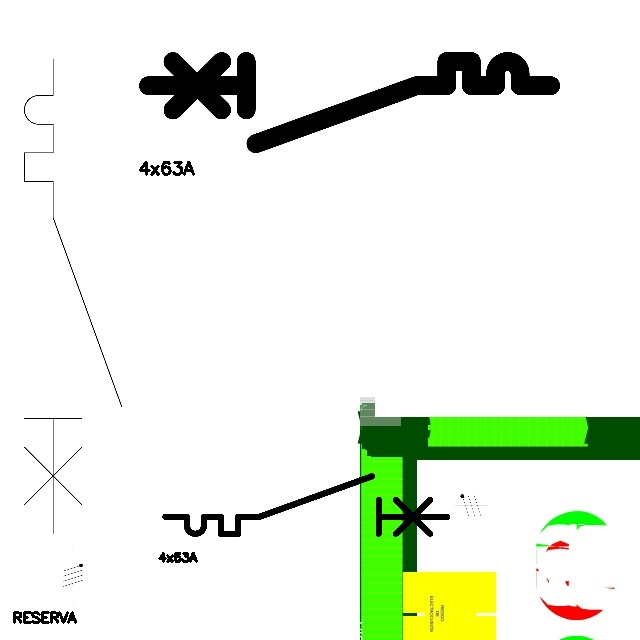interruptor_termomagnetico: (12, 47, 134, 546), (138, 51, 561, 154), (158, 469, 455, 541)
